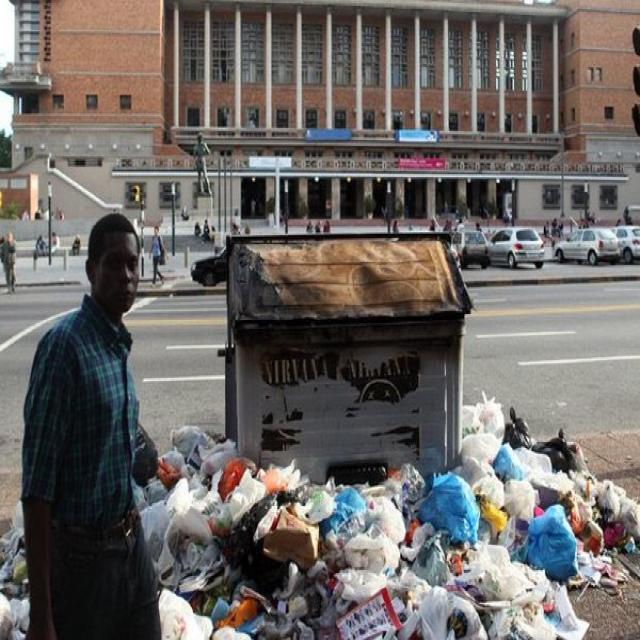garbage: (147, 431, 640, 640), (0, 497, 32, 640), (455, 388, 535, 437)
